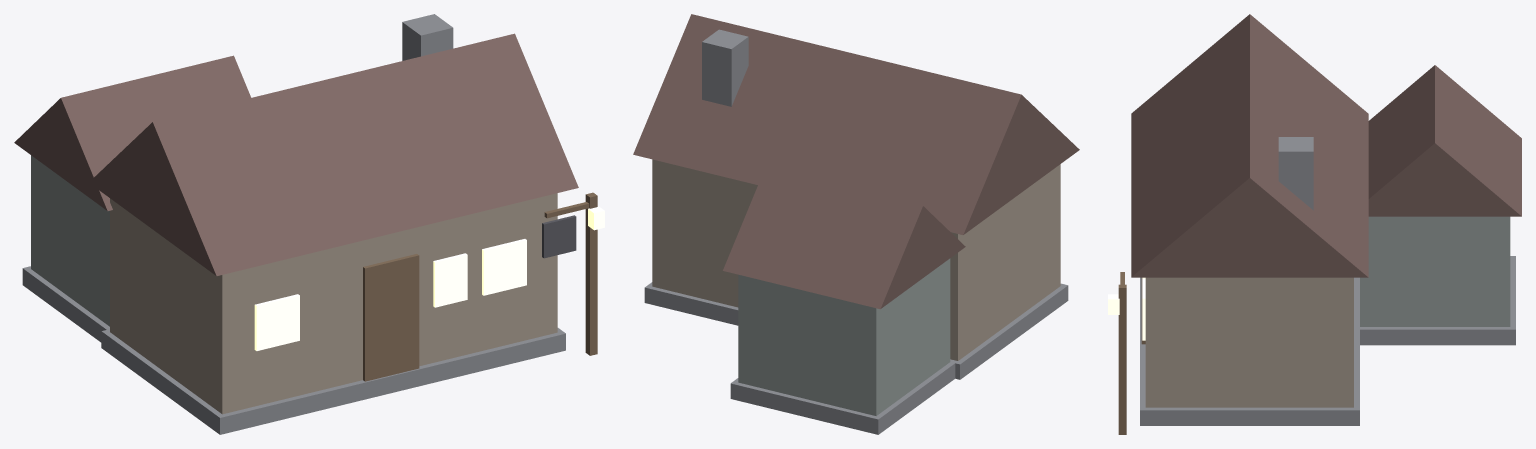
The model's file is inn.glb.
The picture shows the model from 3 angles, left to right: view 1: azimuth 30°, elevation 25°; view 2: azimuth 150°, elevation 25°; view 3: azimuth 270°, elevation 25°; orthographic projection. The views are drawn at different scales.
Visible parts, largest first — view 1: inn; view 2: inn; view 3: inn.
Part boxes in pixels (x1,y1,x2,y2): inn: (14, 14, 604, 434); inn: (633, 14, 1079, 434); inn: (1108, 14, 1521, 434).
Bounding box in the file's own units: 6.95 × 4.9 × 7.15.
